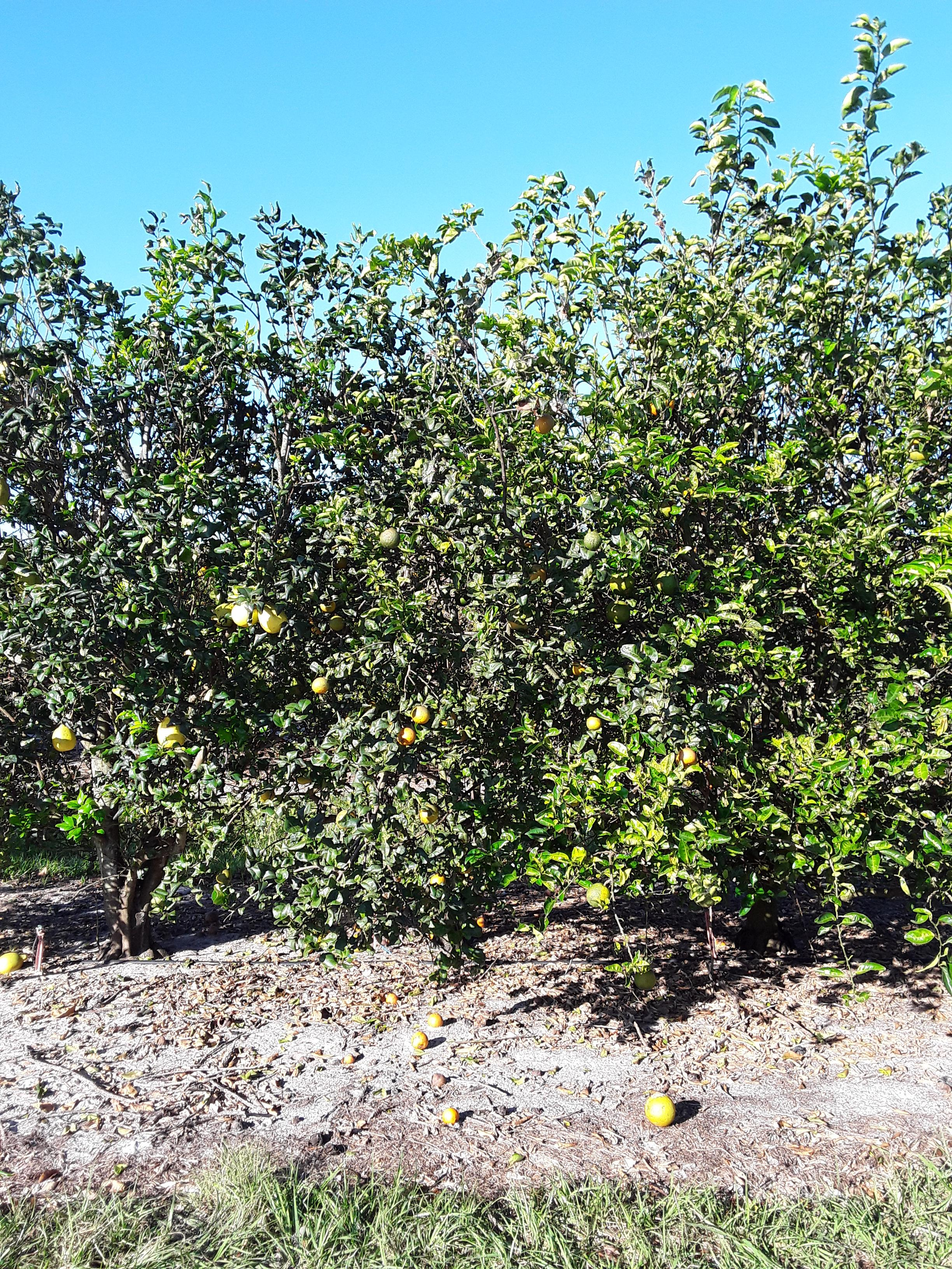fruit_on_ground: (254, 599, 294, 636), (155, 715, 191, 752), (11, 565, 47, 598), (604, 596, 637, 627), (11, 492, 38, 526), (607, 569, 640, 596), (51, 724, 77, 758), (590, 879, 616, 912), (654, 568, 683, 597), (632, 965, 659, 992), (675, 741, 698, 770), (213, 860, 235, 888), (675, 474, 696, 501), (418, 801, 439, 828), (583, 530, 606, 552), (397, 726, 417, 751), (0, 469, 12, 510), (452, 587, 474, 609), (311, 674, 332, 697), (376, 526, 396, 550), (506, 610, 525, 634), (588, 710, 607, 734), (425, 871, 449, 890), (326, 613, 346, 635), (306, 614, 326, 636), (561, 787, 583, 807), (534, 412, 553, 435), (0, 360, 18, 384), (528, 563, 546, 586), (411, 701, 429, 724), (574, 656, 591, 678), (319, 596, 336, 617), (294, 770, 311, 791), (651, 568, 664, 595), (684, 388, 703, 405), (337, 551, 352, 571), (665, 394, 680, 413), (196, 559, 211, 578), (569, 659, 584, 678), (261, 785, 276, 804), (646, 399, 659, 418), (359, 423, 373, 439), (522, 536, 535, 552)
fruit_on_tree: (643, 1087, 679, 1134), (0, 950, 28, 975), (441, 1105, 461, 1129), (414, 1033, 432, 1055), (429, 1004, 445, 1025), (432, 1075, 448, 1092), (475, 914, 493, 929), (343, 1050, 358, 1067), (384, 991, 398, 1008)
